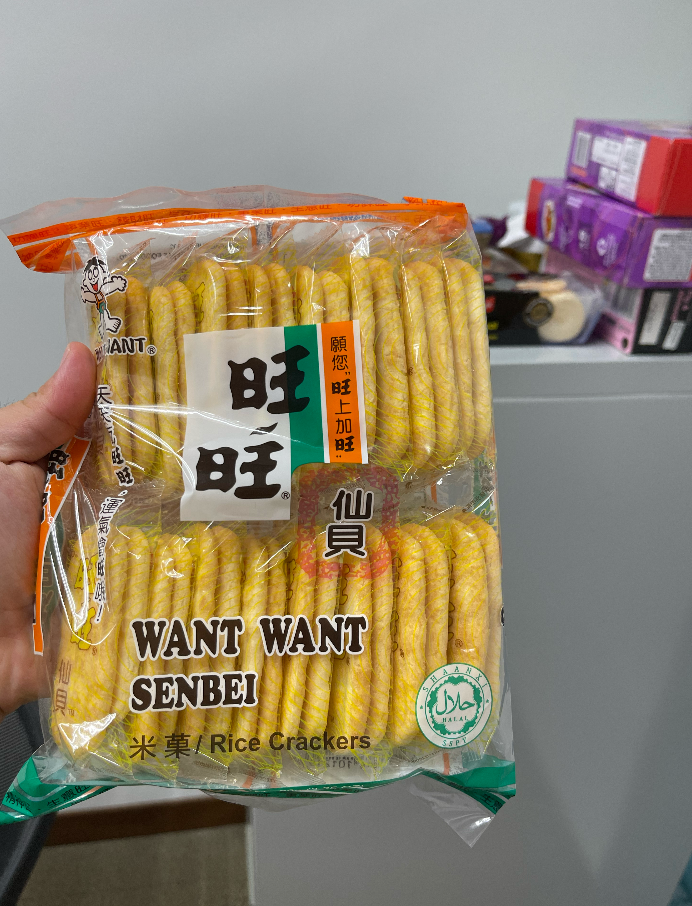crackers_1g-99g: (88, 216, 492, 784)
